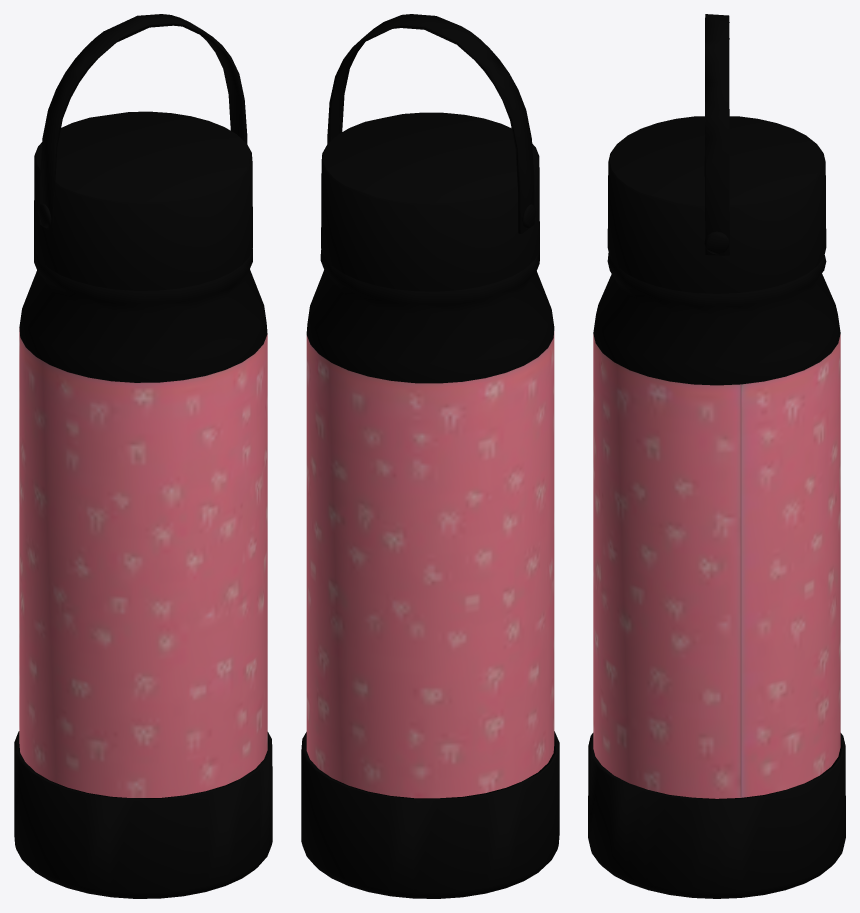
Rendered from volta_bottle.glb.
The picture shows the model from 3 angles, left to right: view 1: azimuth 30°, elevation 25°; view 2: azimuth 150°, elevation 25°; view 3: azimuth 270°, elevation 25°; orthographic projection.
Visible parts, largest first — view 1: Circle.009, Circle.007, Circle.008, Circle.006; view 2: Circle.009, Circle.007, Circle.008, Circle.006; view 3: Circle.009, Circle.007, Circle.008, Circle.006.
Boxes of the visible parts, x1,y1,x2,y2 form: Circle.009: [19, 245, 267, 797]; Circle.007: [34, 111, 252, 290]; Circle.008: [14, 731, 272, 898]; Circle.006: [39, 14, 247, 231]; Circle.009: [306, 244, 554, 798]; Circle.007: [321, 112, 539, 291]; Circle.008: [301, 731, 559, 898]; Circle.006: [327, 14, 534, 233]; Circle.009: [593, 253, 840, 798]; Circle.007: [607, 116, 826, 293]; Circle.008: [588, 733, 845, 898]; Circle.006: [704, 14, 729, 255].
Size of the model in its own units: 0.0555 by 0.196 by 0.0555.
Materials: 2 (1 with a texture image).
